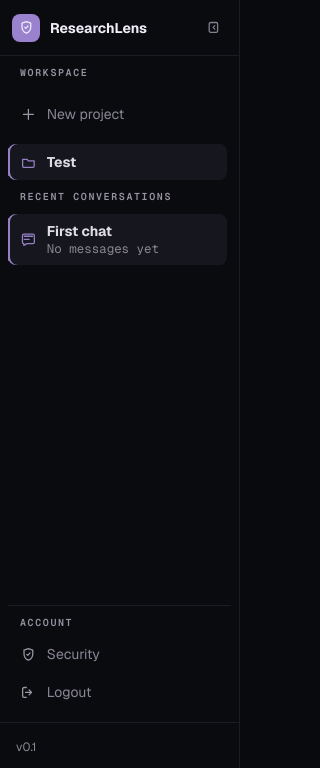
Test case: keeps navigation available after collapsing into the legacy icon rail
This screenshot has width=320, height=768.
Click the button named "Collapse sidebar" at (213, 28), box [199, 14, 227, 42]
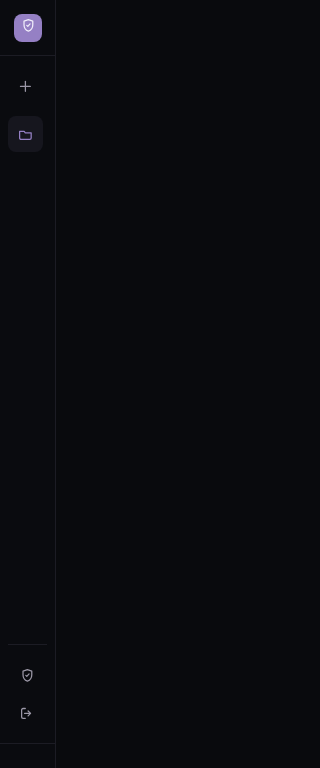
Expected: the button titled "New project" is shown, [8, 68, 43, 104]
Now the text "Workspace" is gone
